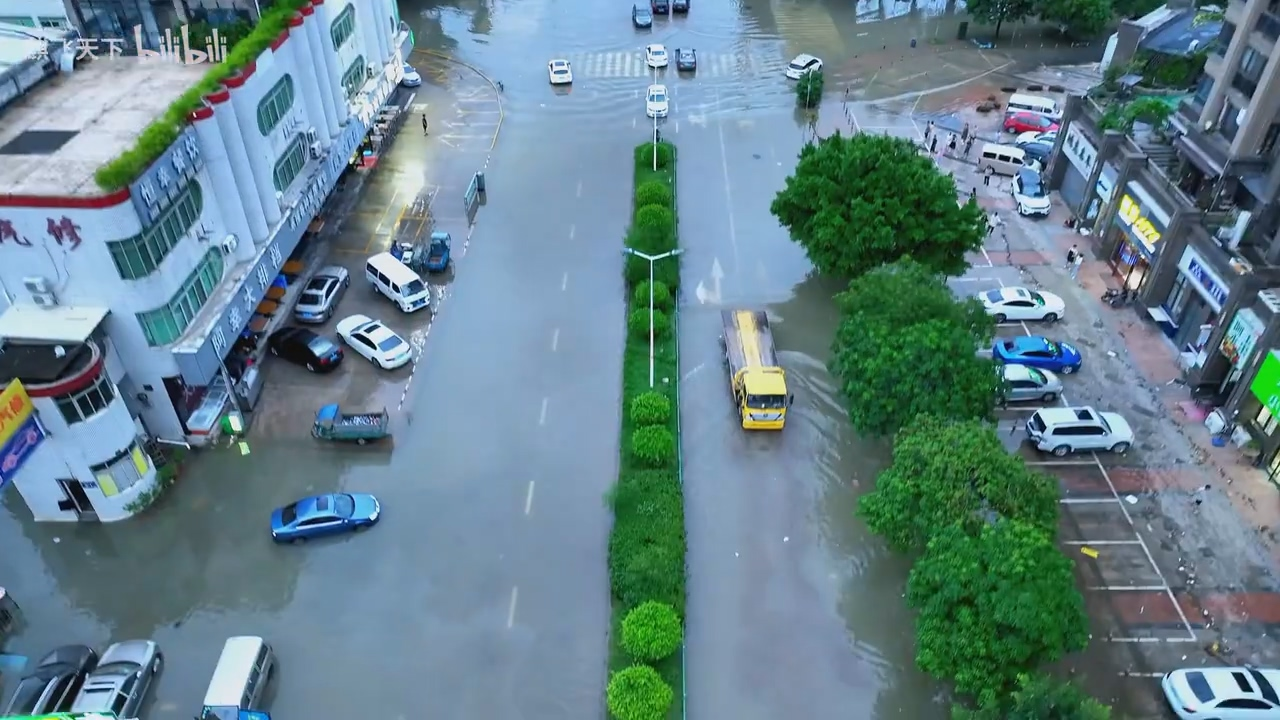puddle: (396, 204, 868, 720)
